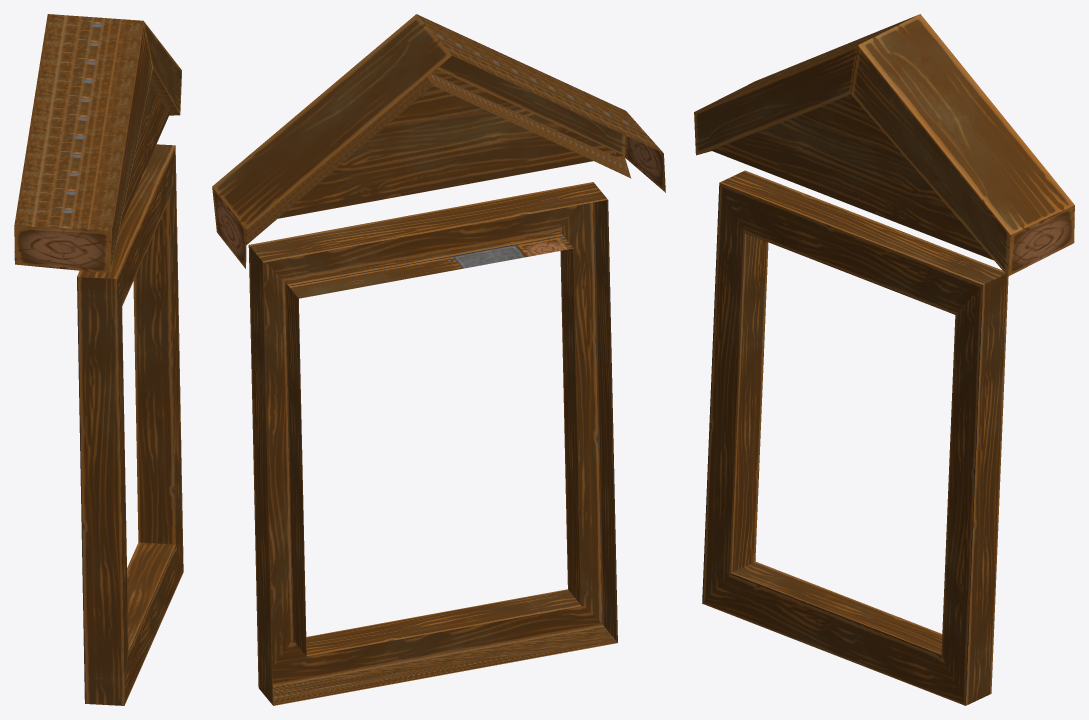
The picture shows the model from 3 angles, left to right: view 1: azimuth 30°, elevation 25°; view 2: azimuth 150°, elevation 25°; view 3: azimuth 270°, elevation 25°; orthographic projection. The views are drawn at different scales.
Visible parts, largest first — view 1: Cube.2048; view 2: Cube.2048; view 3: Cube.2048.
Boxes of the visible parts, bbox=[...] form: Cube.2048: bbox=[14, 14, 183, 705]; Cube.2048: bbox=[212, 14, 665, 705]; Cube.2048: bbox=[694, 14, 1074, 705].
Size of the model in its own units: 170 by 338 by 189.
1 material, 1 textured.
